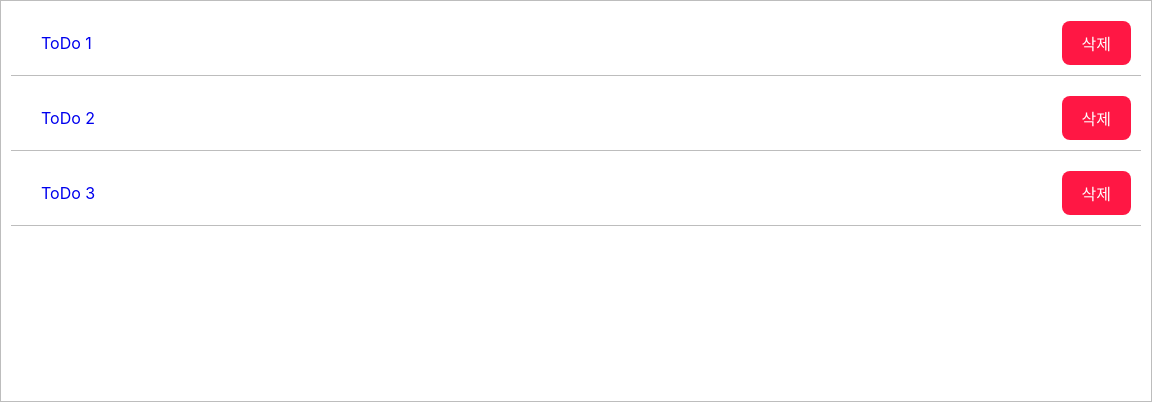
<ToDoList /> › deletes toDo item
expect the link "ToDo 2" is shown: met, box [41, 108, 95, 128]
Click the element showing "삭제" in the row of "ToDo 2": (1096, 118) [1062, 96, 1131, 140]
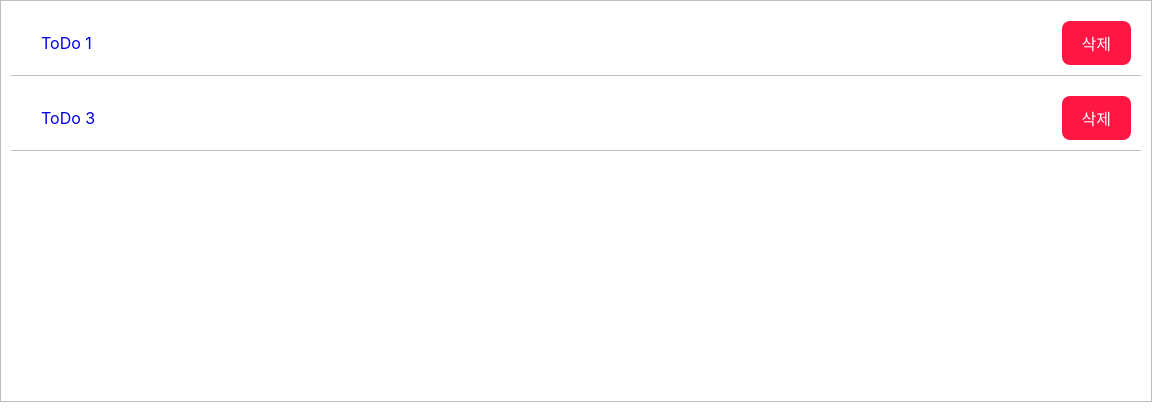
expect the link "ToDo 2" is gone: met
expect the link "ToDo 2" no longer shows "ToDo 2": met
